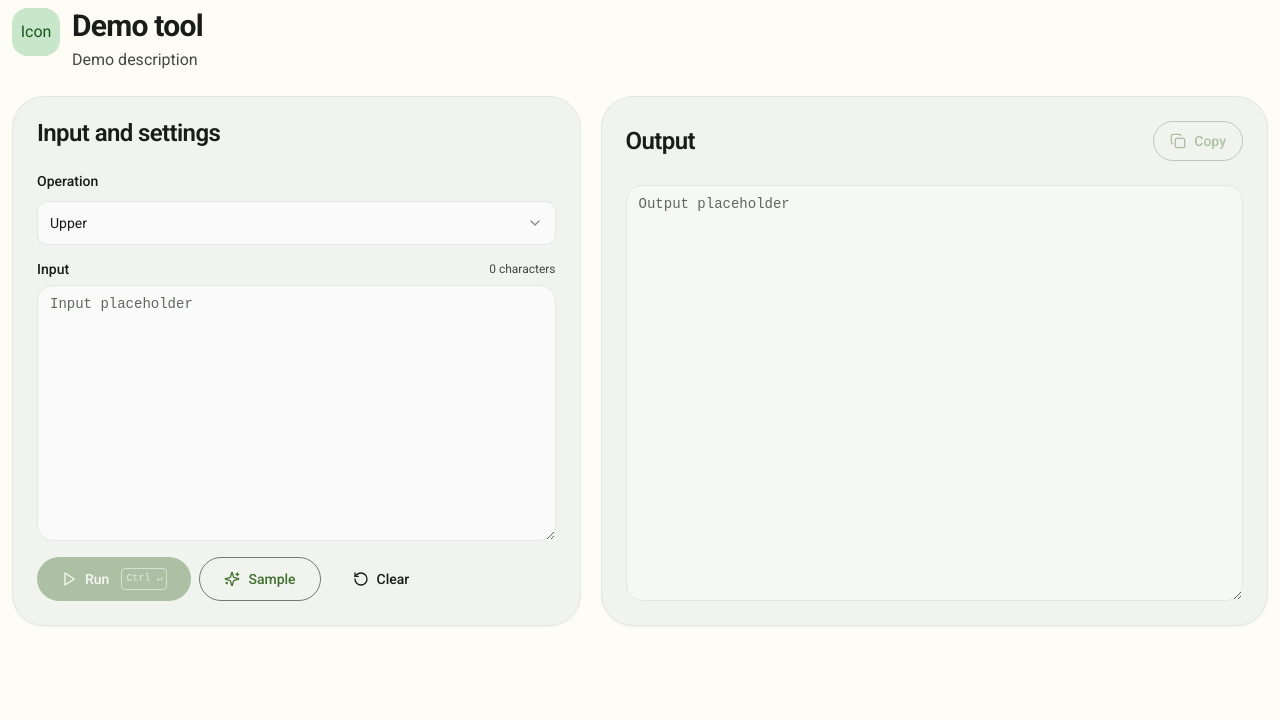
Scenario: UtilityWorkbench run flow › marks the output stale when the input changes and blocks copying it
Type "abc" into the text box labelled "Input".
click(296, 413); type("abc")  # box [37,285,556,541]
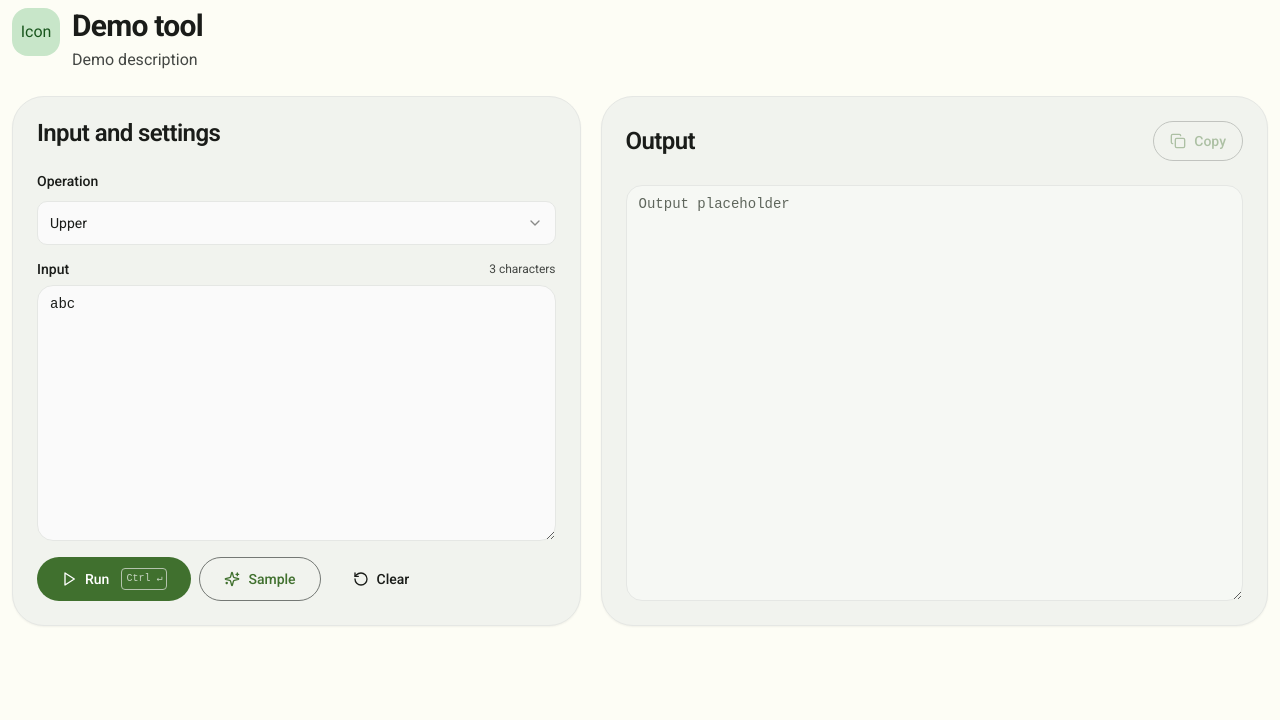
Click the button "Run Ctrl ↵".
click(114, 579)  # box [37,557,191,601]
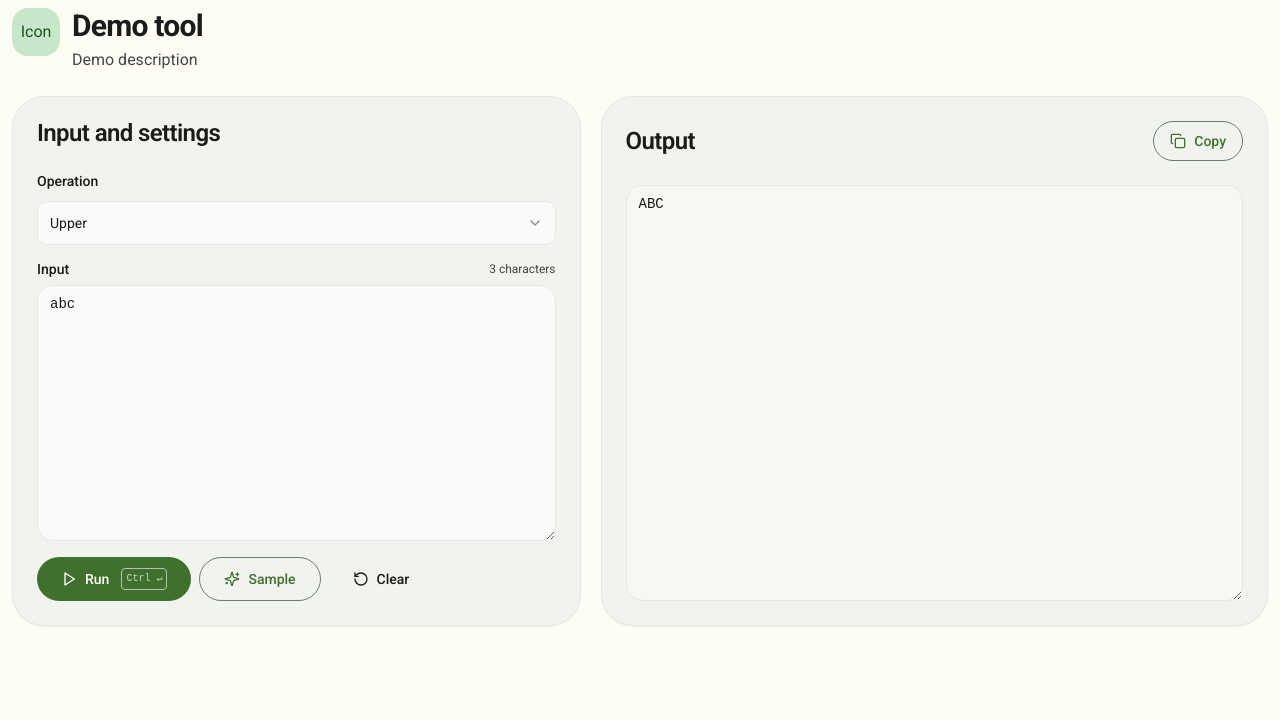
Expected: the text "staleOutput" is not shown
Expected: the 1st text box holds "ABC", [626,185,1243,601]
Replace the text in the text box labelled "Input" with "abcd" at (296, 413), box [37,285,556,541]
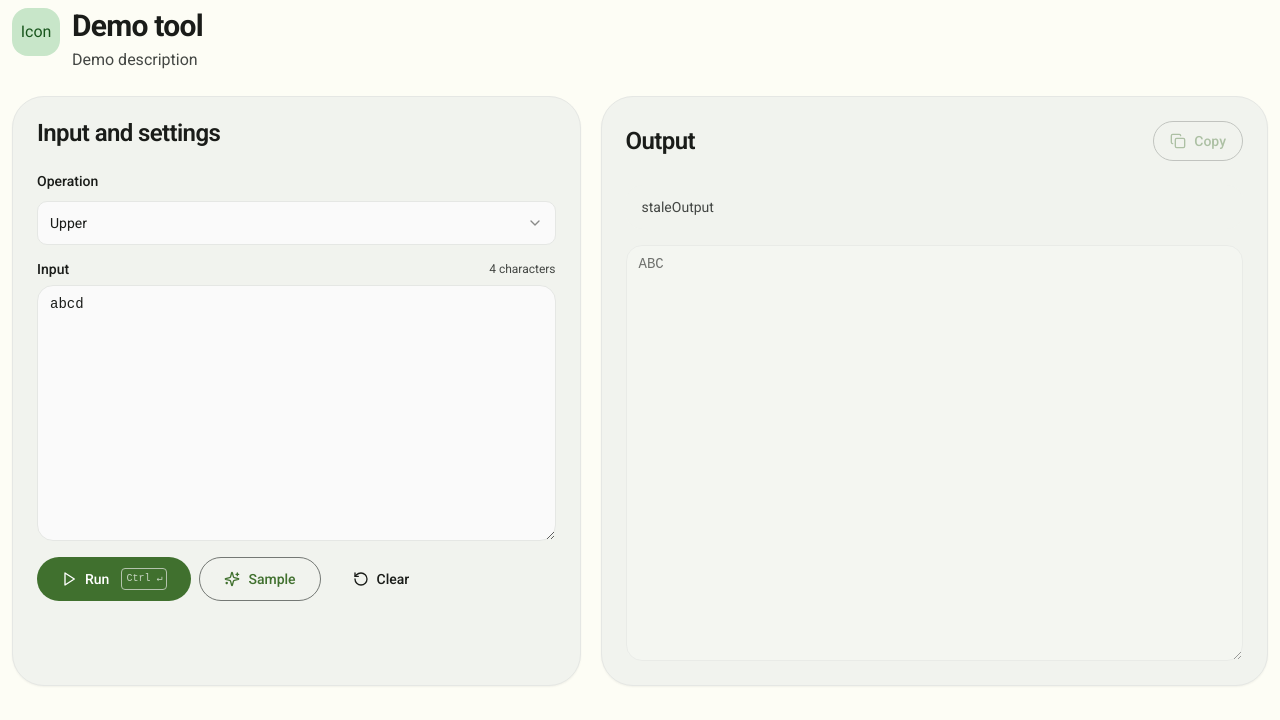
Expected: the text "staleOutput" is shown, [626,185,1243,229]
Expected: the button "Copy" is disabled, [1153,121,1243,161]
